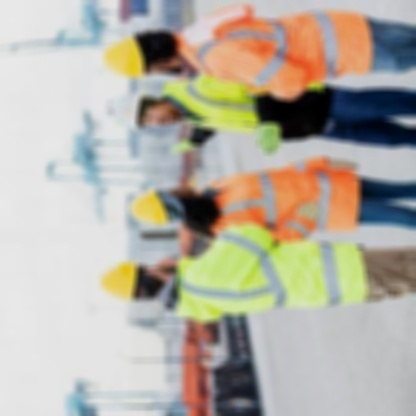vest: (182, 2, 374, 90), (180, 233, 371, 318), (212, 154, 345, 235), (180, 79, 255, 135)
white: (100, 87, 147, 141)
yellow: (98, 31, 150, 85), (98, 254, 146, 306), (124, 182, 172, 230)
